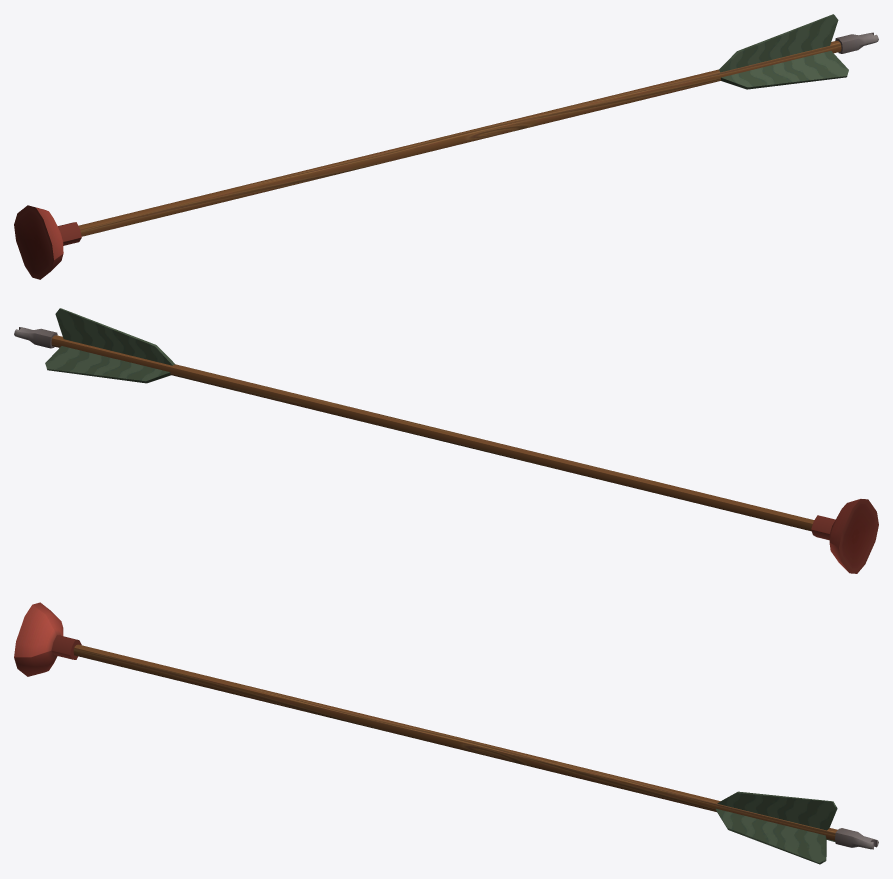
The model's file is arrow.glb.
3 views of the same model, one above another, from view 1: azimuth 30°, elevation 25°; view 2: azimuth 150°, elevation 25°; view 3: azimuth 330°, elevation 25° (orthographic).
Parts seen in each view (by area): view 1: Arrow; view 2: Arrow; view 3: Arrow.
Part boxes in pixels (x1,y1,x2,y2): Arrow: (14,14,878,279); Arrow: (14,308,878,573); Arrow: (14,602,878,864).
Bounding box in the file's own units: 0.9445 × 0.0779 × 0.0779.
Materials: 1 (1 with a texture image).
